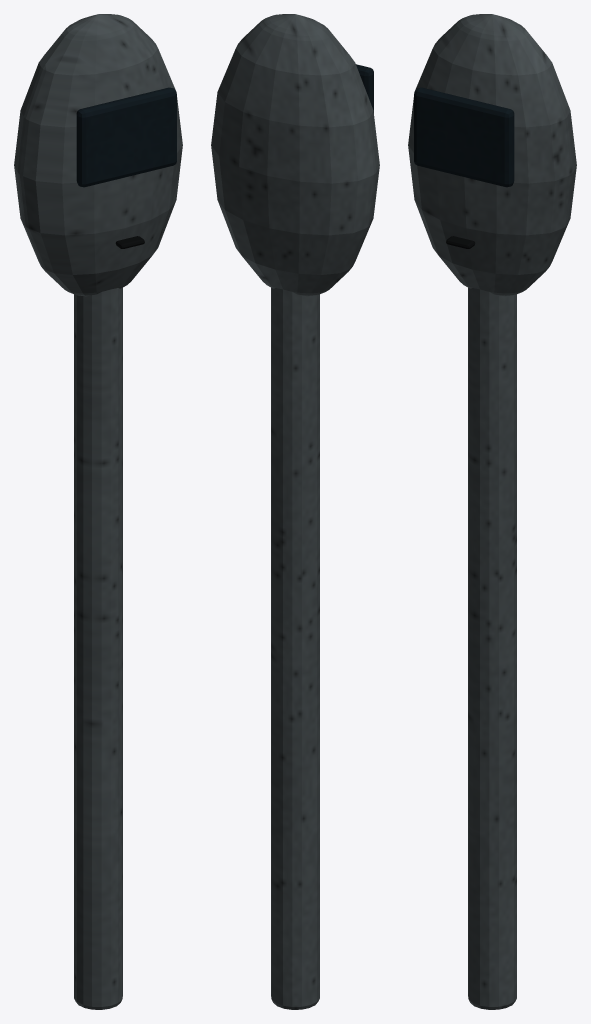
File: PROP-52D0386E0603_lod0.glb
3 views of the same model, side by side, from view 1: azimuth 30°, elevation 25°; view 2: azimuth 150°, elevation 25°; view 3: azimuth 330°, elevation 25° (orthographic).
Visible parts, largest first — view 1: meter_post, meter_head, meter_display; view 2: meter_head, meter_post, meter_display; view 3: meter_post, meter_head, meter_display.
Boxes of the visible parts, x1,y1,x2,y2 form: meter_post: [74, 287, 122, 1009]; meter_head: [14, 14, 182, 296]; meter_display: [76, 87, 176, 187]; meter_head: [211, 14, 379, 296]; meter_post: [271, 287, 319, 1009]; meter_display: [356, 64, 373, 112]; meter_post: [468, 287, 516, 1009]; meter_head: [408, 14, 576, 296]; meter_display: [414, 87, 514, 187].
Size of the model in its own units: 0.2571 by 1.54 by 0.18.
Materials: 3 (3 with a texture image).
